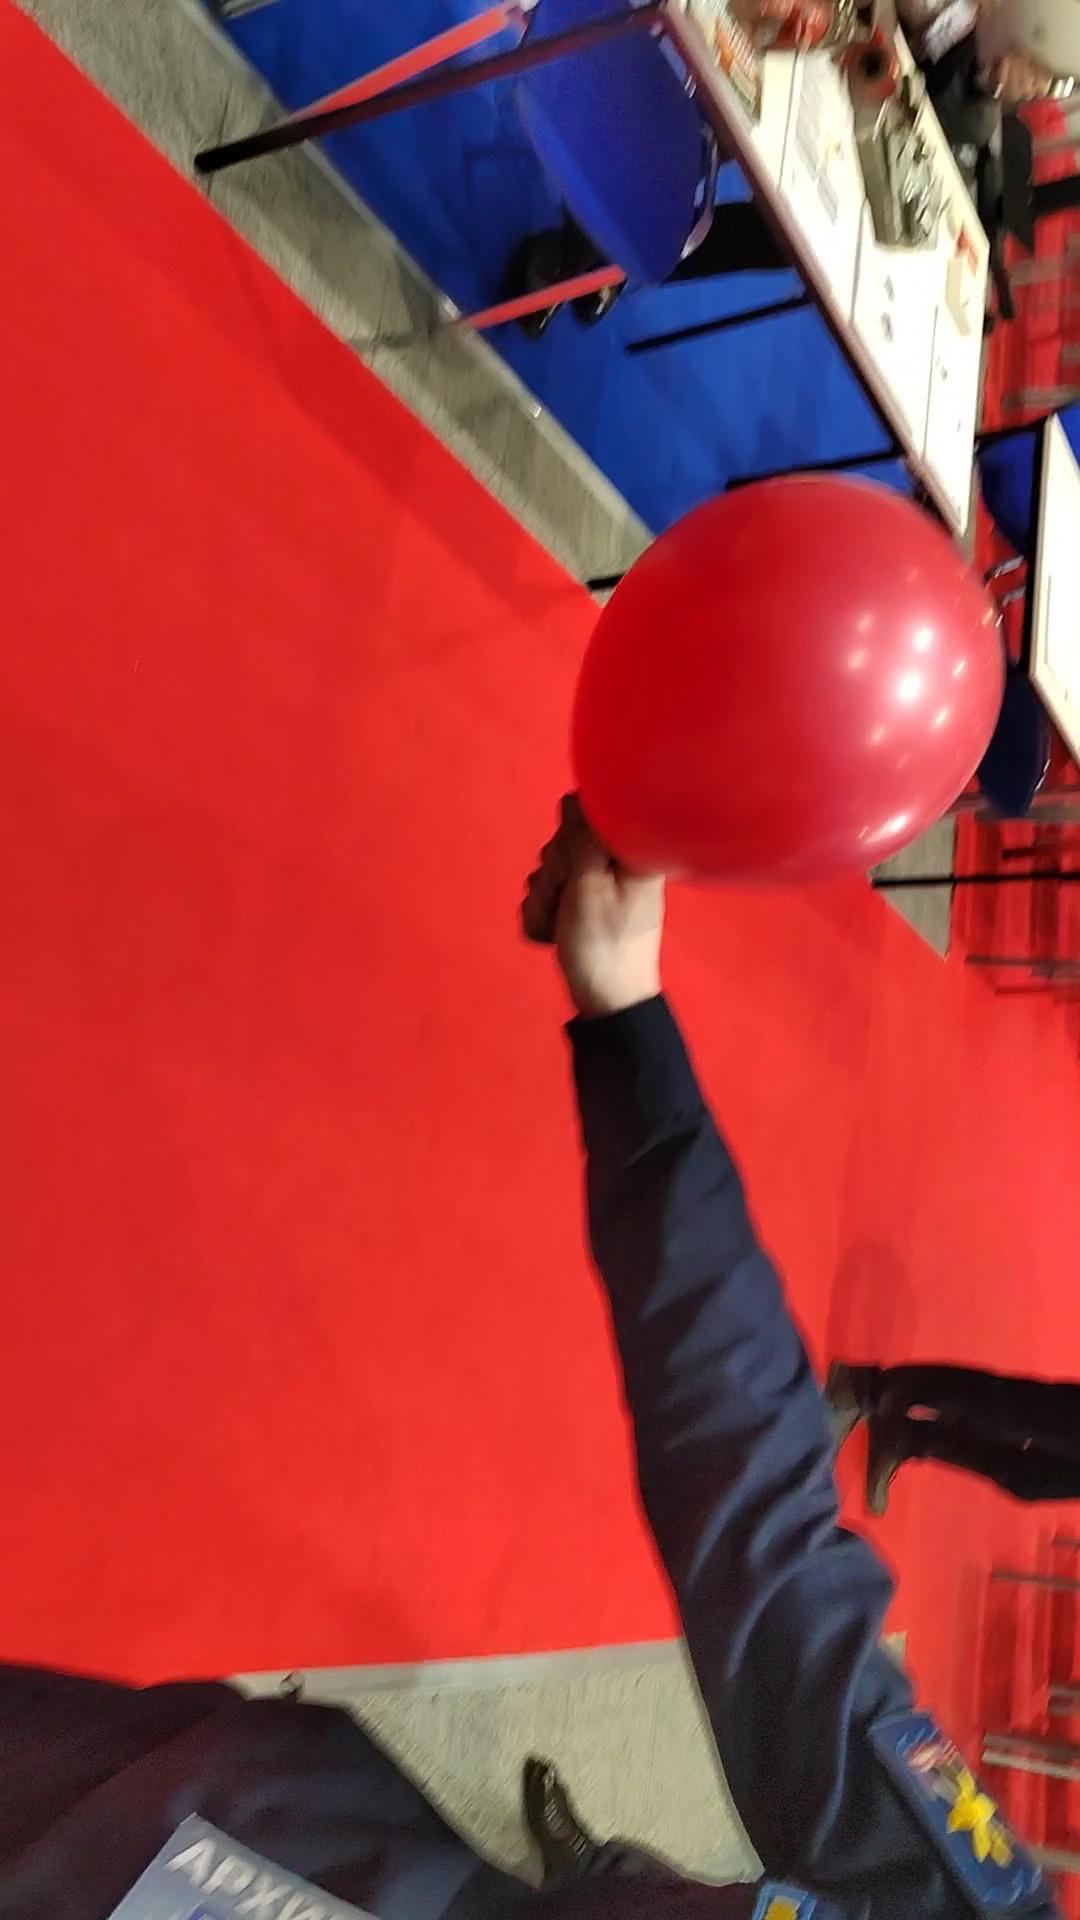red: (550, 464, 1006, 889)
